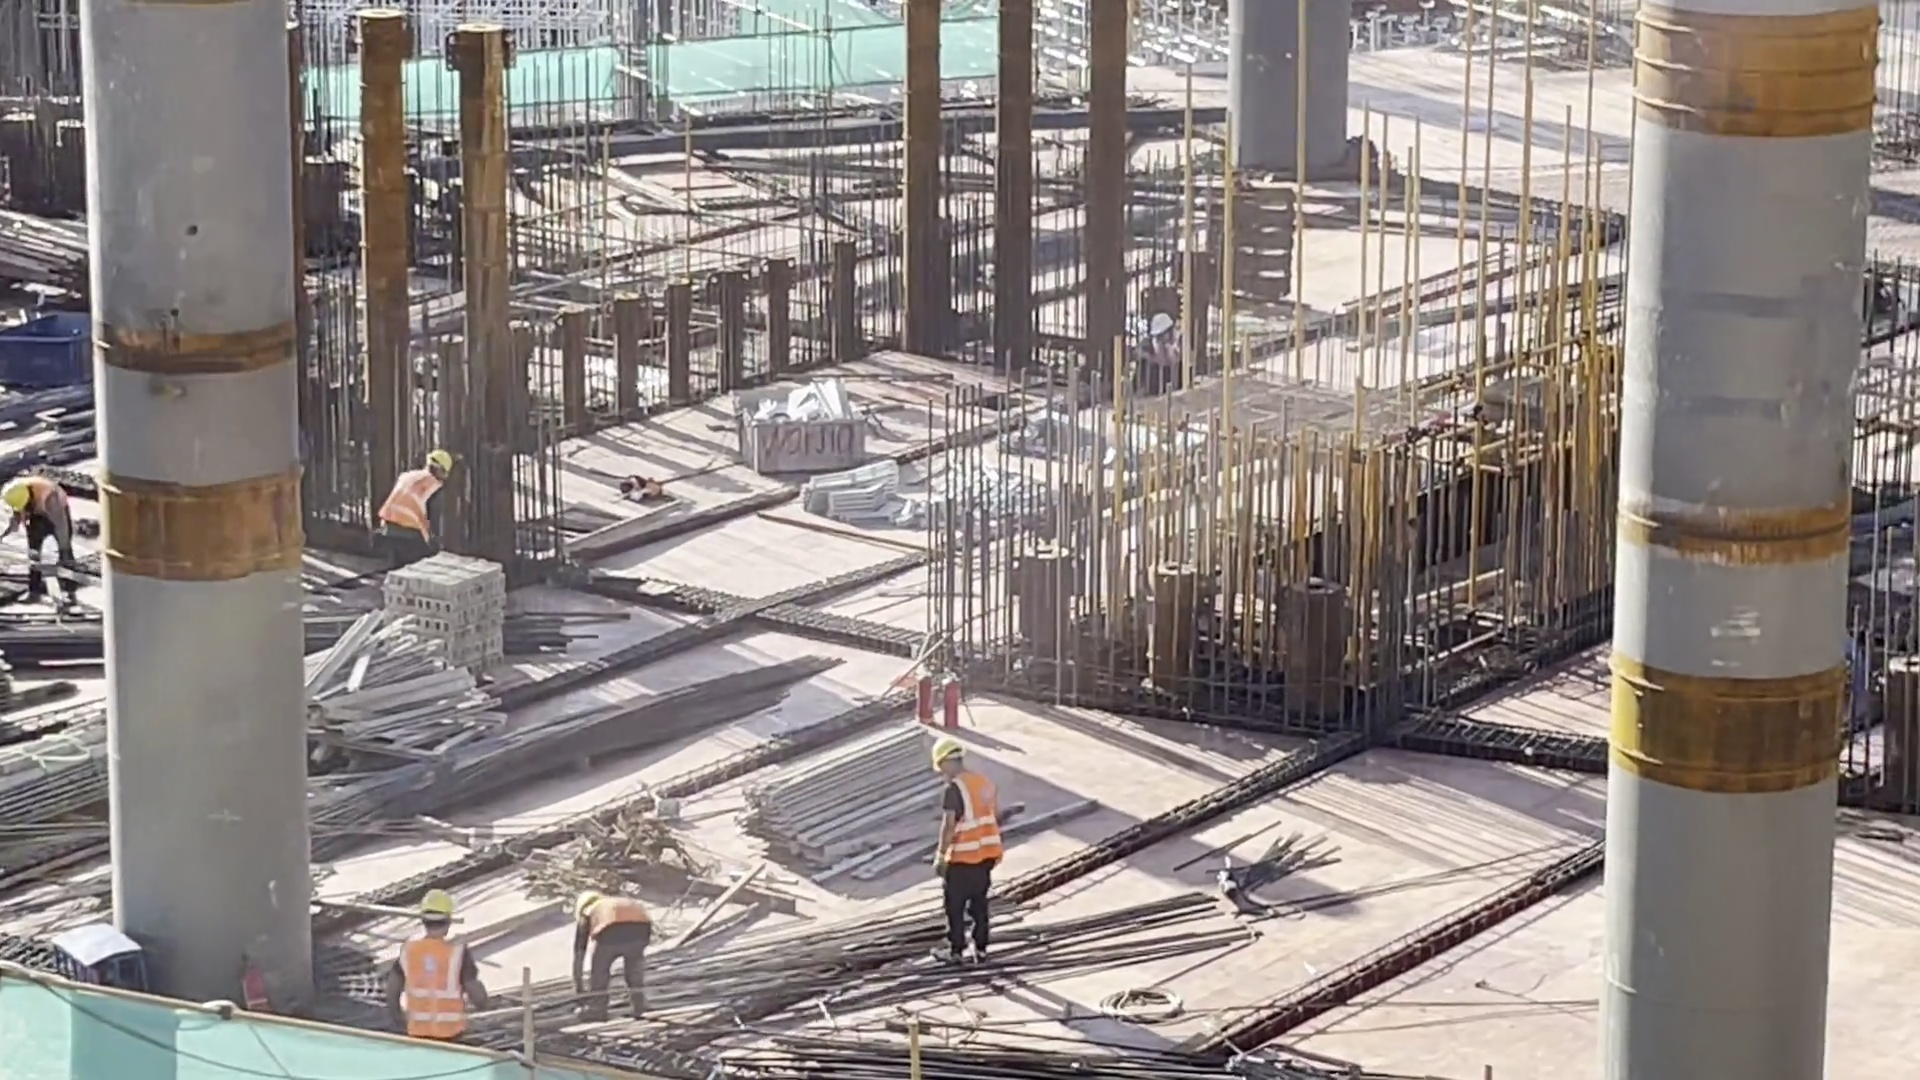helmet: (924, 741, 959, 777), (424, 444, 461, 474), (426, 892, 448, 931), (8, 494, 34, 514), (1141, 314, 1173, 324)
hopper: (699, 376, 913, 469), (6, 304, 101, 397)
person: (926, 726, 1033, 956), (543, 881, 671, 1021), (404, 891, 494, 1041), (1, 465, 93, 595), (1124, 298, 1218, 385), (371, 448, 448, 541)
rebar: (231, 633, 826, 868), (1, 606, 639, 668), (719, 911, 1184, 996), (1395, 292, 1618, 331)
vest: (404, 936, 473, 1026), (948, 767, 1008, 864), (386, 472, 444, 529), (589, 892, 654, 939), (29, 477, 78, 529), (1149, 342, 1203, 362)
wood: (3, 204, 106, 269)
